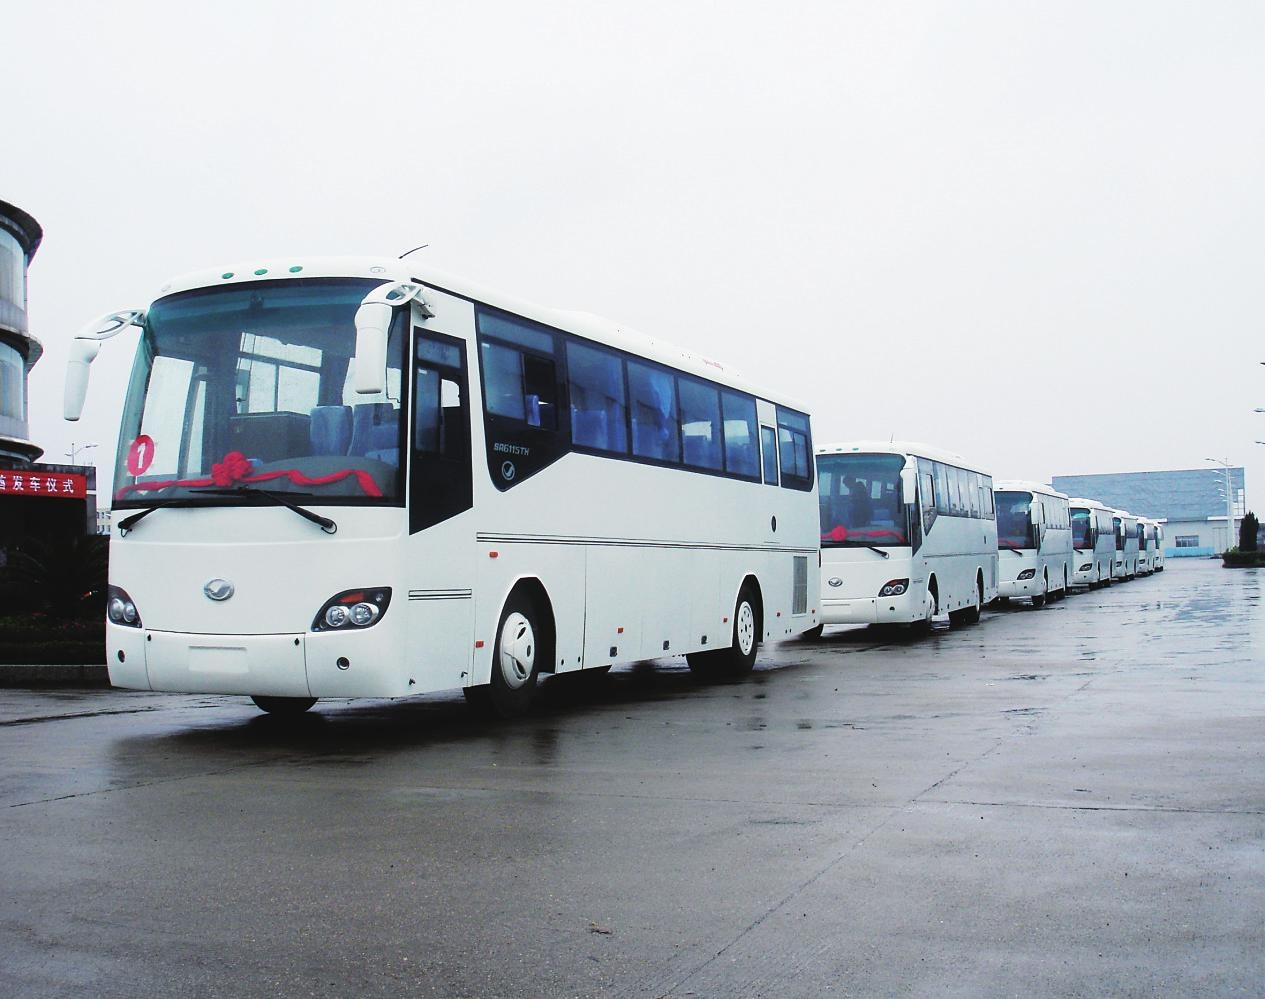bus: (50, 256, 825, 718)
